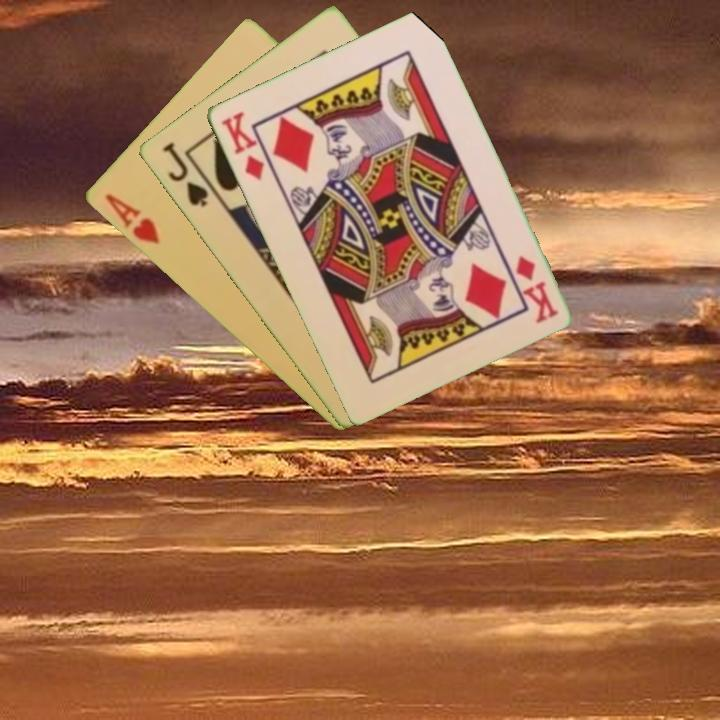Ah: (101, 190, 162, 248)
Js: (158, 138, 211, 210)
Kd: (217, 108, 267, 184), (511, 252, 561, 326)
